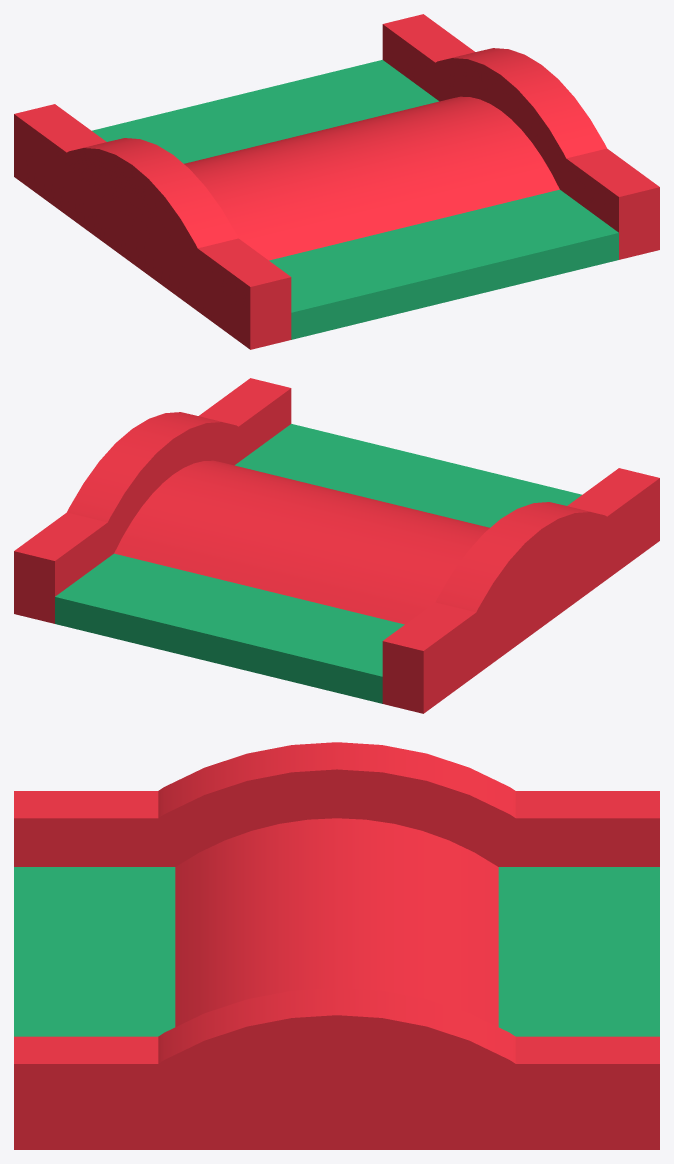
Rendered from hillRound.fbx.
3 renders of one model, top to bottom at view 1: azimuth 30°, elevation 25°; view 2: azimuth 150°, elevation 25°; view 3: azimuth 270°, elevation 25°, orthographic. The views are drawn at different scales.
Parts seen in each view (by area): view 1: hillRound; view 2: hillRound; view 3: hillRound.
Part boxes in pixels (left/top/right/bottom): hillRound: left=14, top=14, right=659, bottom=349; hillRound: left=14, top=378, right=659, bottom=713; hillRound: left=14, top=742, right=659, bottom=1149.
Bounding box in the file's own units: 10 × 2.3 × 10.
